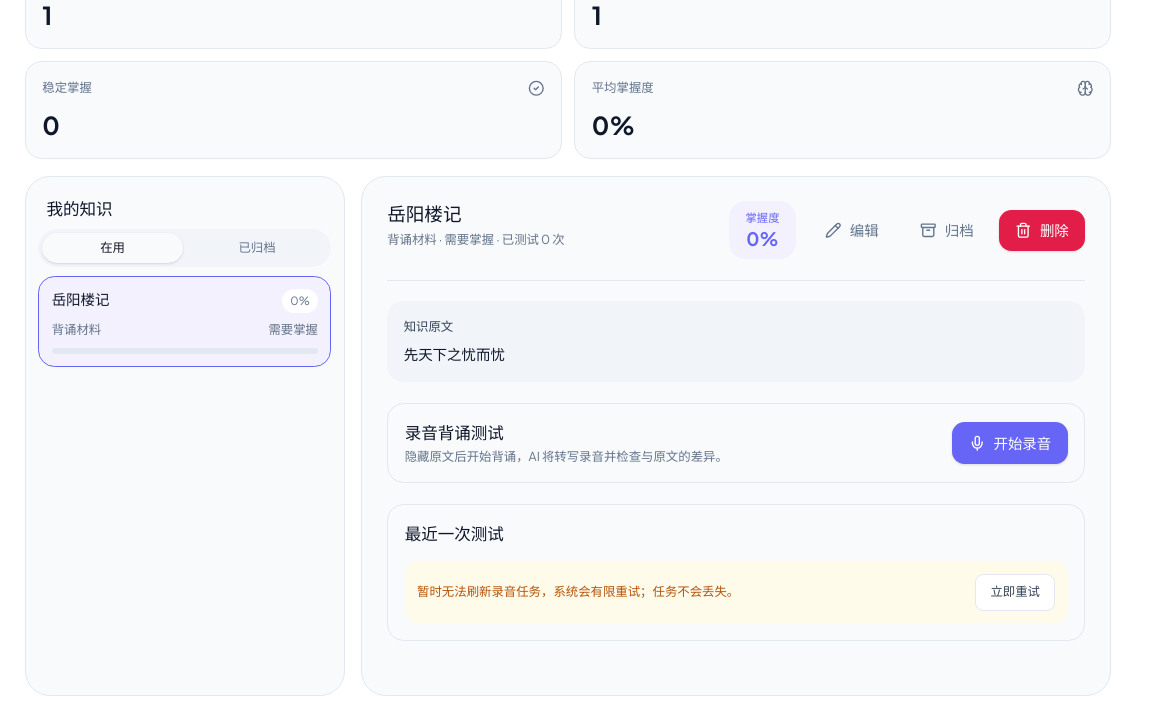
it: KnowledgeMirrorPage reliability › 任务查询失败保留 URL 中的任务并允许手动恢复
The image size is (1152, 720).
(page scrolled)
expect the text "暂时无法刷新录音任务，系统会有限重试；任务不会丢失。" is shown: met, box left=417, top=583, right=739, bottom=601
Click the button "立即重试". click: point(1015, 592)
box: left=975, top=574, right=1055, bottom=611
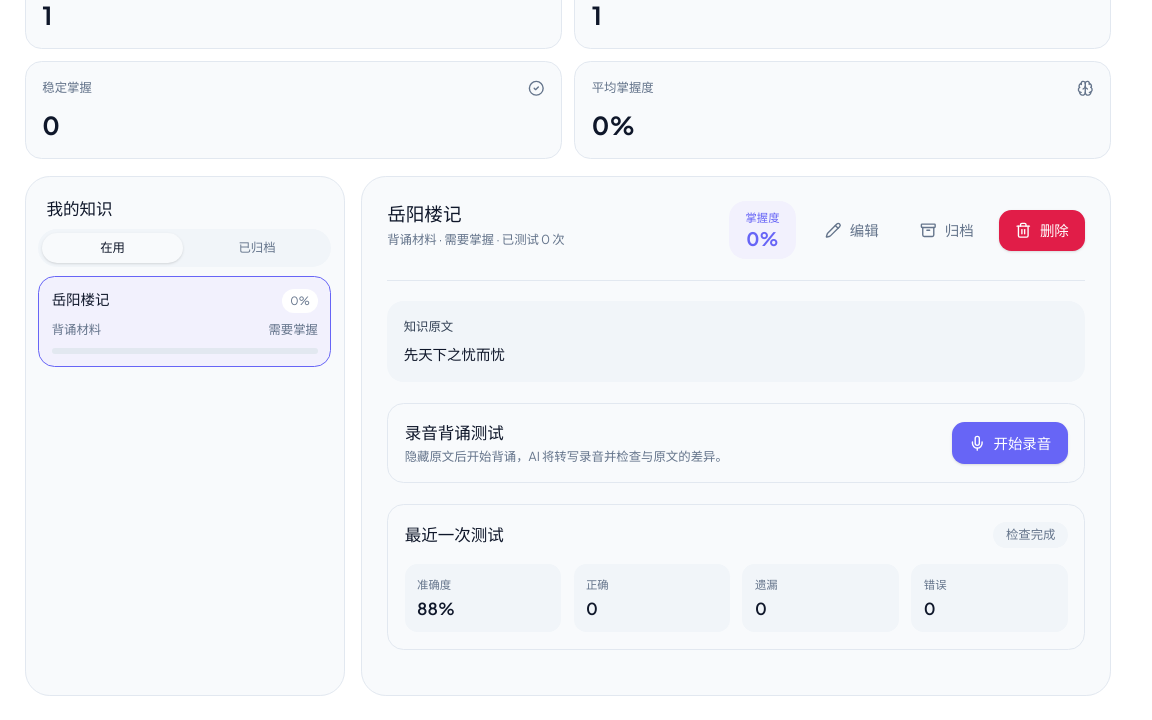
expect the text "检查完成" is shown: met, box left=994, top=522, right=1068, bottom=548
expect the text "88%" is shown: met, box left=417, top=598, right=455, bottom=619
